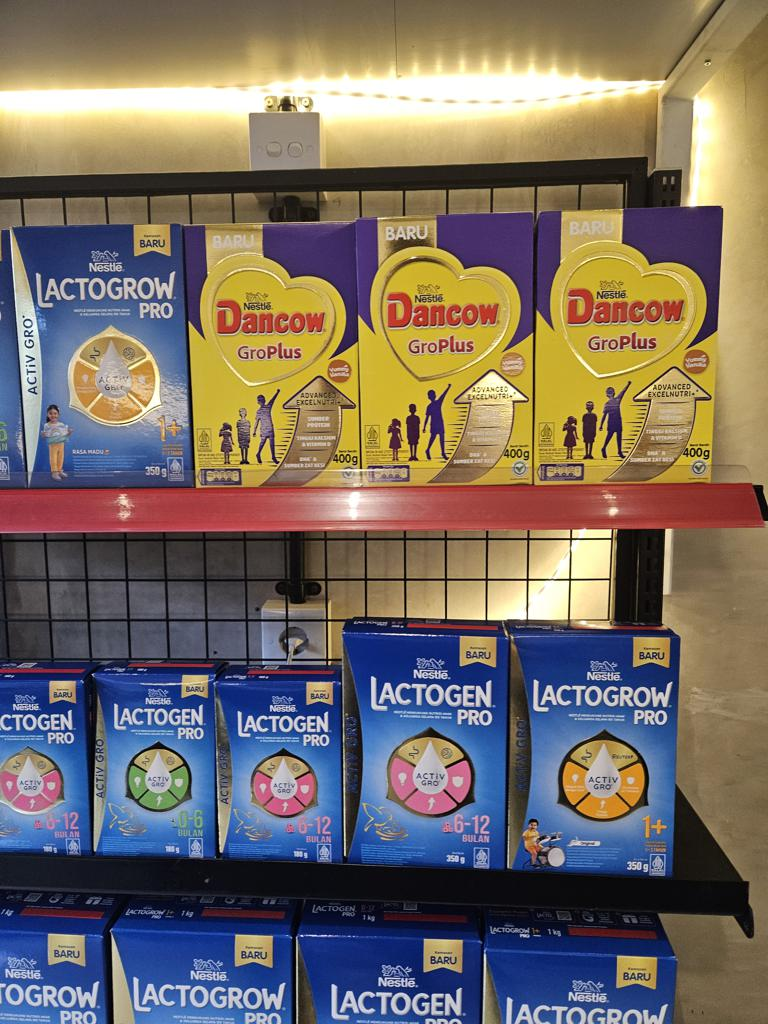LACTOGEN PRO 0-6 mo 40x180g ID: (87, 670, 221, 858)
LACTOGEN PRO 6-12 mo 24x350g ID: (340, 631, 508, 869)
LACTOGEN PRO 6-12 mo 40x180g ID: (212, 679, 345, 859), (0, 675, 91, 855)
LACTOGROW PRO 1+ Honey 24x350g ID: (9, 219, 198, 489)
